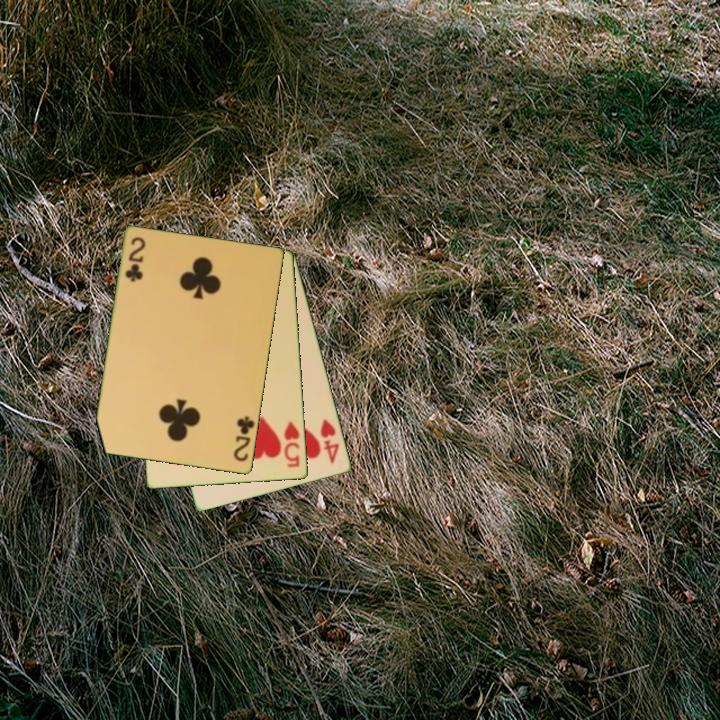2c: (230, 413, 257, 465), (122, 234, 149, 285)
4h: (317, 415, 342, 467)
5h: (281, 418, 303, 470)
